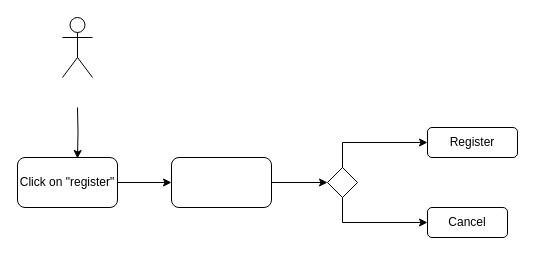
The diagram is 535 pixels wide and 255 high, and some of its shapes have lost their labels. The shapes that lost their labels are listed below. From the top down, each one's centre as x and y in pixels, then its label:
At point 77,47: "Unregistered User".
At point 221,182: "Fill in your data".
